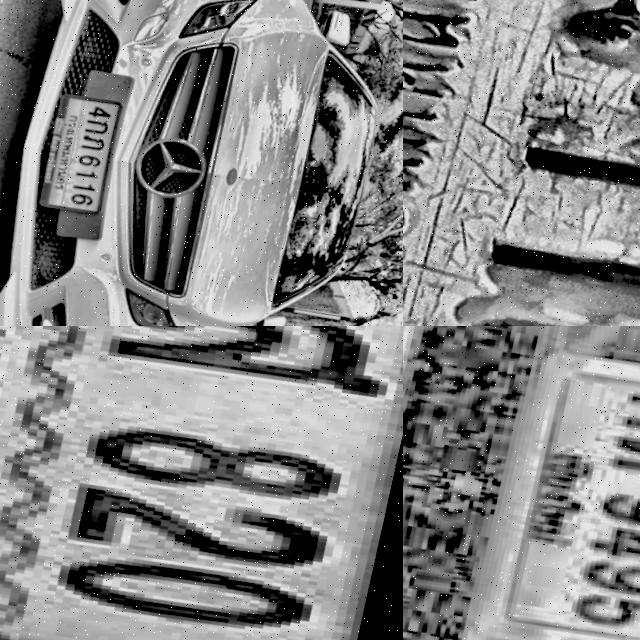license-plate: (0, 326, 403, 640), (403, 0, 640, 326), (413, 326, 640, 640), (30, 91, 128, 226)
